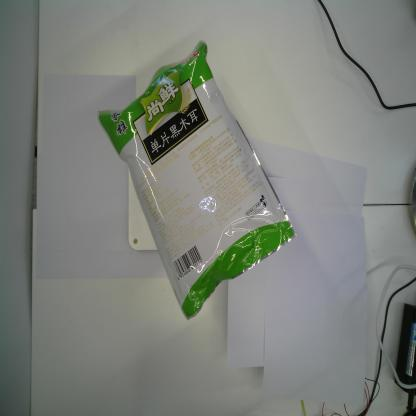Dried Food: (96, 39, 297, 321)
